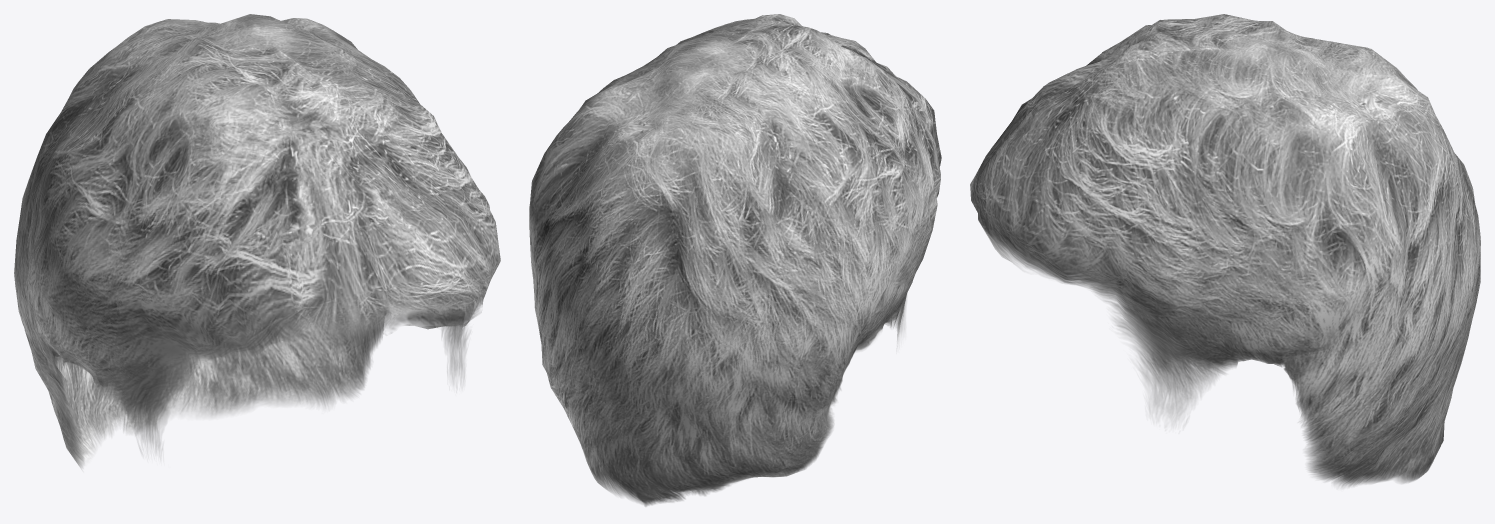
File: hair_short02.gltf
3 renders of one model, left to right at view 1: azimuth 30°, elevation 25°; view 2: azimuth 150°, elevation 25°; view 3: azimuth 270°, elevation 25°, orthographic. The views are drawn at different scales.
Visible parts, largest first — view 1: hair_short02; view 2: hair_short02; view 3: hair_short02.
Part boxes in pixels (left/top/right/bottom): hair_short02: left=14, top=14, right=500, bottom=470; hair_short02: left=529, top=14, right=941, bottom=506; hair_short02: left=970, top=14, right=1480, bottom=487.
Bounding box in the file's own units: 0.1753 × 0.2018 × 0.2176.
1 material, 1 textured.
